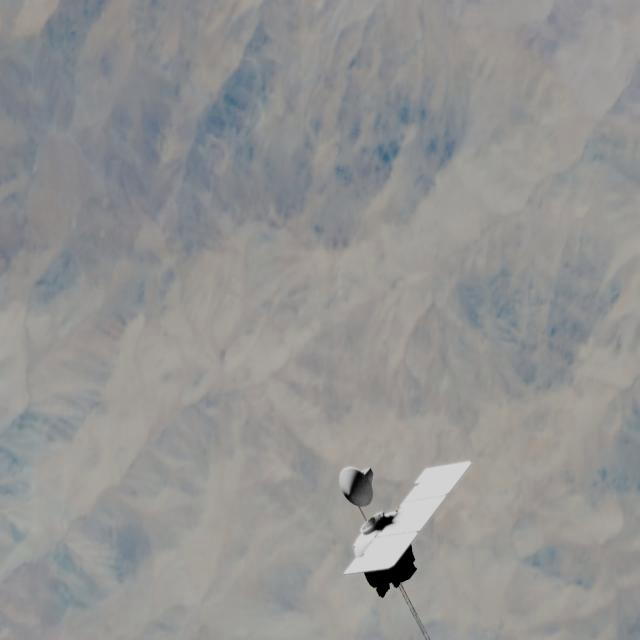medium_debris: (309, 428, 481, 596)
